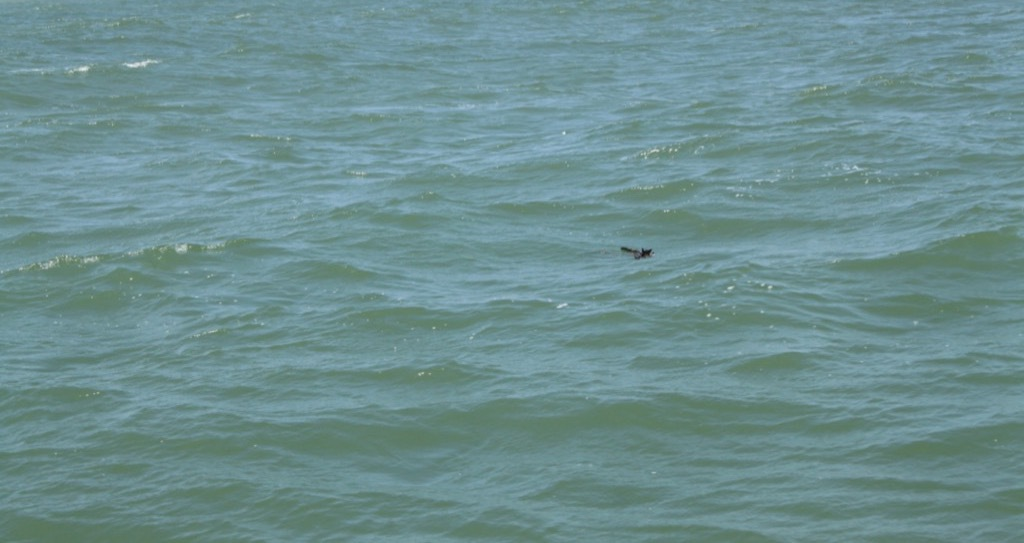plastic: (611, 236, 661, 266)
